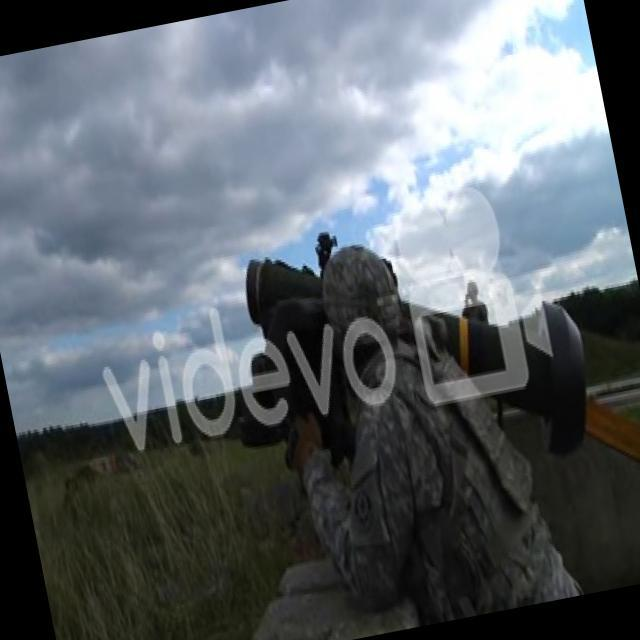rocket: (245, 206, 597, 504)
